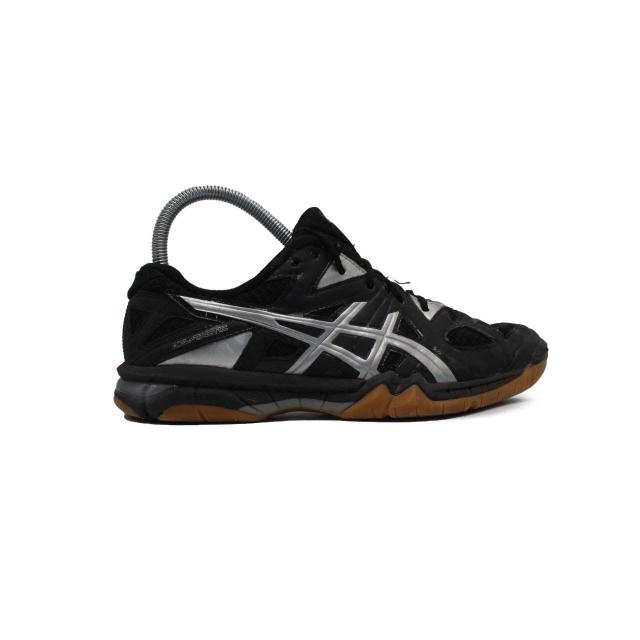heel: (124, 266, 163, 368)
midsole: (114, 363, 545, 428)
uppersole: (158, 206, 540, 379)
